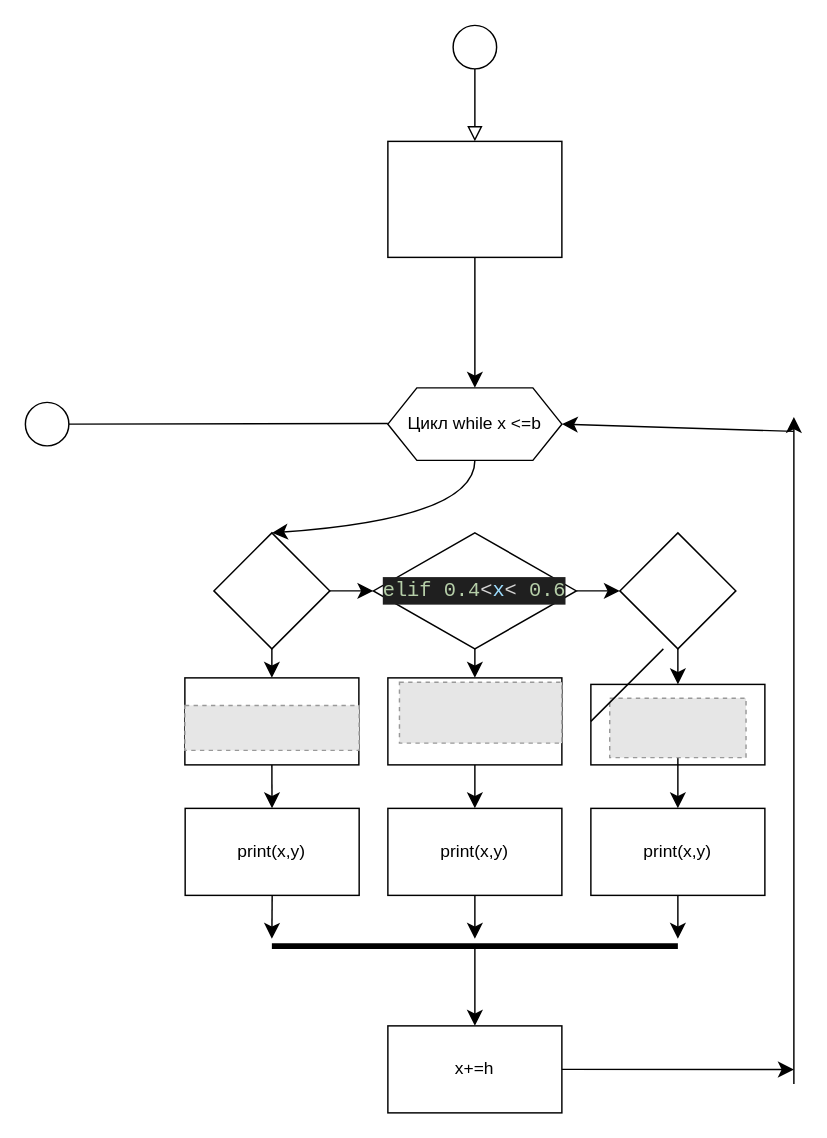
The diagram is 827 pixels wide and 1138 high, and some of its shapes have lost their labels. Grey dashed boxes stand in for pictures. The box of each missing label's shape, as (x1, y1, x2, y2) in pixels:
elif x >= 0.6: (618, 531, 736, 649)
if x <=0.4: (212, 531, 330, 649)
Змінні x = 0.3 b = 0.9 h = 0.05: (386, 140, 562, 257)
